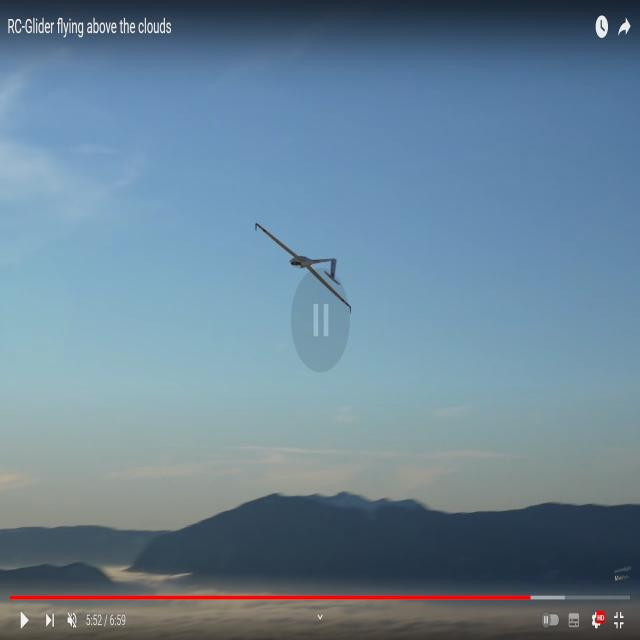iha: (286, 249, 319, 270)
